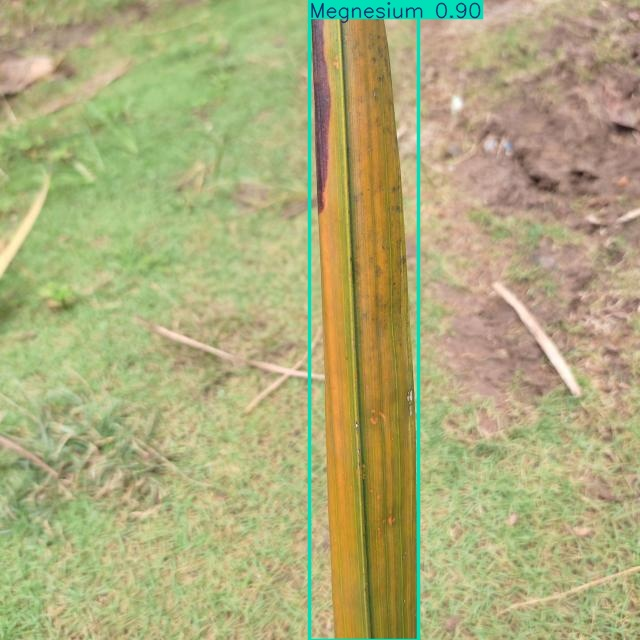Megnesium: (310, 0, 418, 640)
